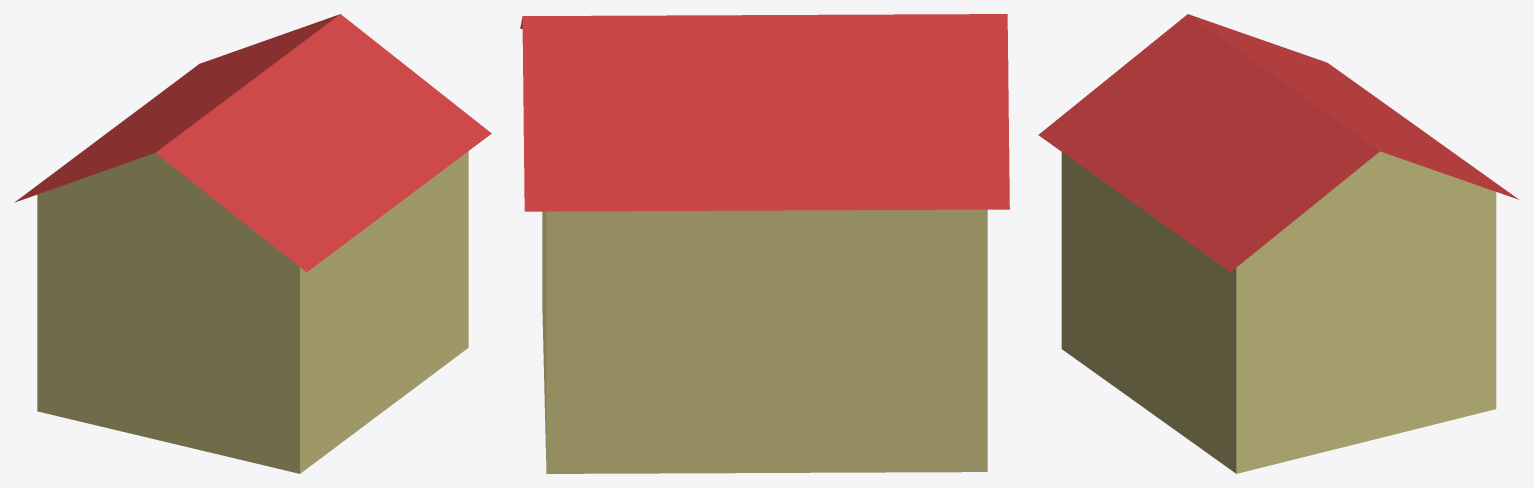
3 views of the same model, side by side, from view 1: azimuth 30°, elevation 25°; view 2: azimuth 150°, elevation 25°; view 3: azimuth 270°, elevation 25° (orthographic). The views are drawn at different scales.
Size of the model in its own units: 21.68 by 21.04 by 14.23.
